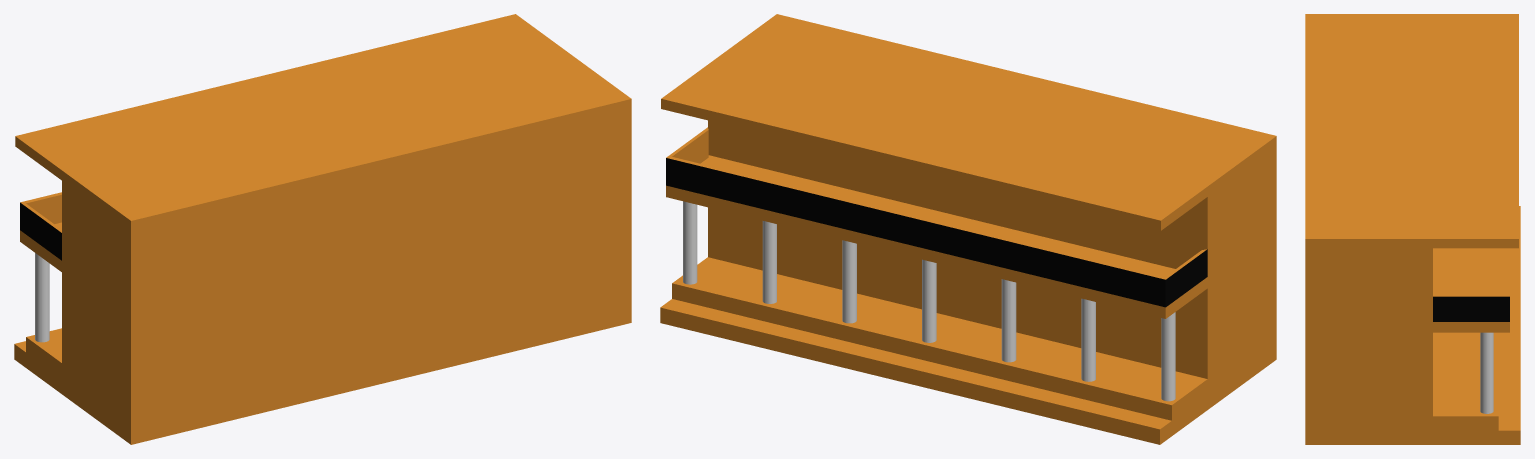
File: delegacion.glb
3 renders of one model, left to right at view 1: azimuth 30°, elevation 25°; view 2: azimuth 150°, elevation 25°; view 3: azimuth 270°, elevation 25°, orthographic. The views are drawn at different scales.
Visible parts, largest first — view 1: Cube, Cylinder; view 2: Cube, Cylinder; view 3: Cube, Cylinder.
Boxes of the visible parts, bbox=[...] form: Cube: bbox=[14, 14, 631, 444]; Cylinder: bbox=[35, 253, 49, 342]; Cube: bbox=[660, 14, 1276, 444]; Cylinder: bbox=[683, 201, 1175, 401]; Cube: bbox=[1305, 14, 1520, 444]; Cylinder: bbox=[1480, 332, 1493, 413].
Size of the model in its own units: 250 by 107 by 101.
